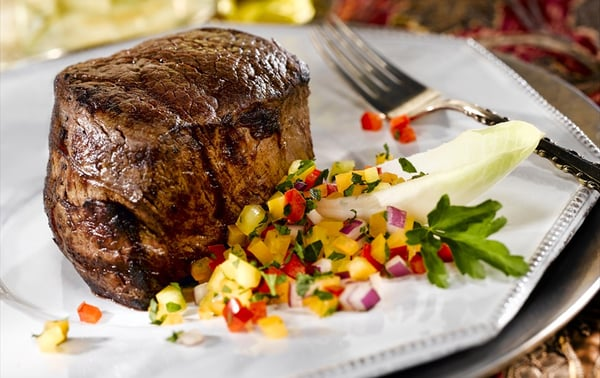soup: (42, 26, 316, 311)
